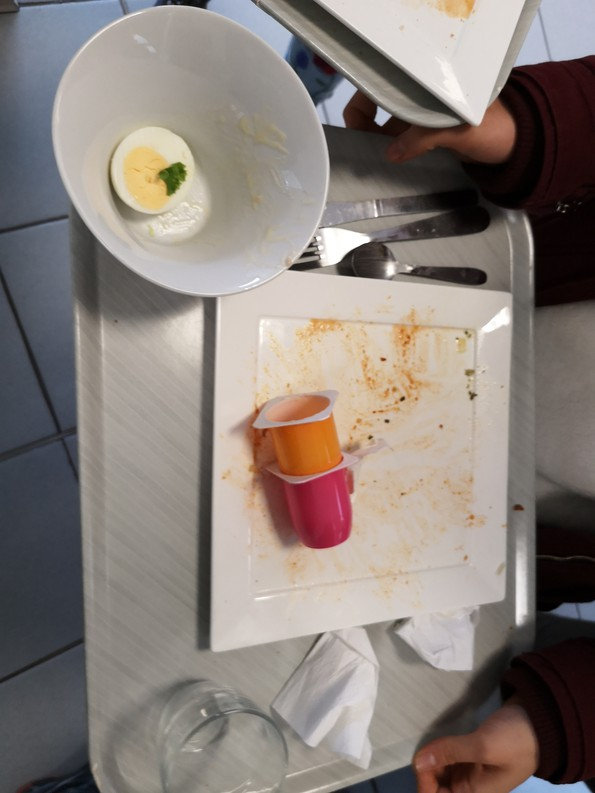cup: (139, 683, 306, 793)
cutlery: (292, 187, 509, 286)
orga: (103, 121, 213, 217)
trash: (255, 378, 368, 557), (287, 636, 390, 772), (401, 599, 491, 678)
